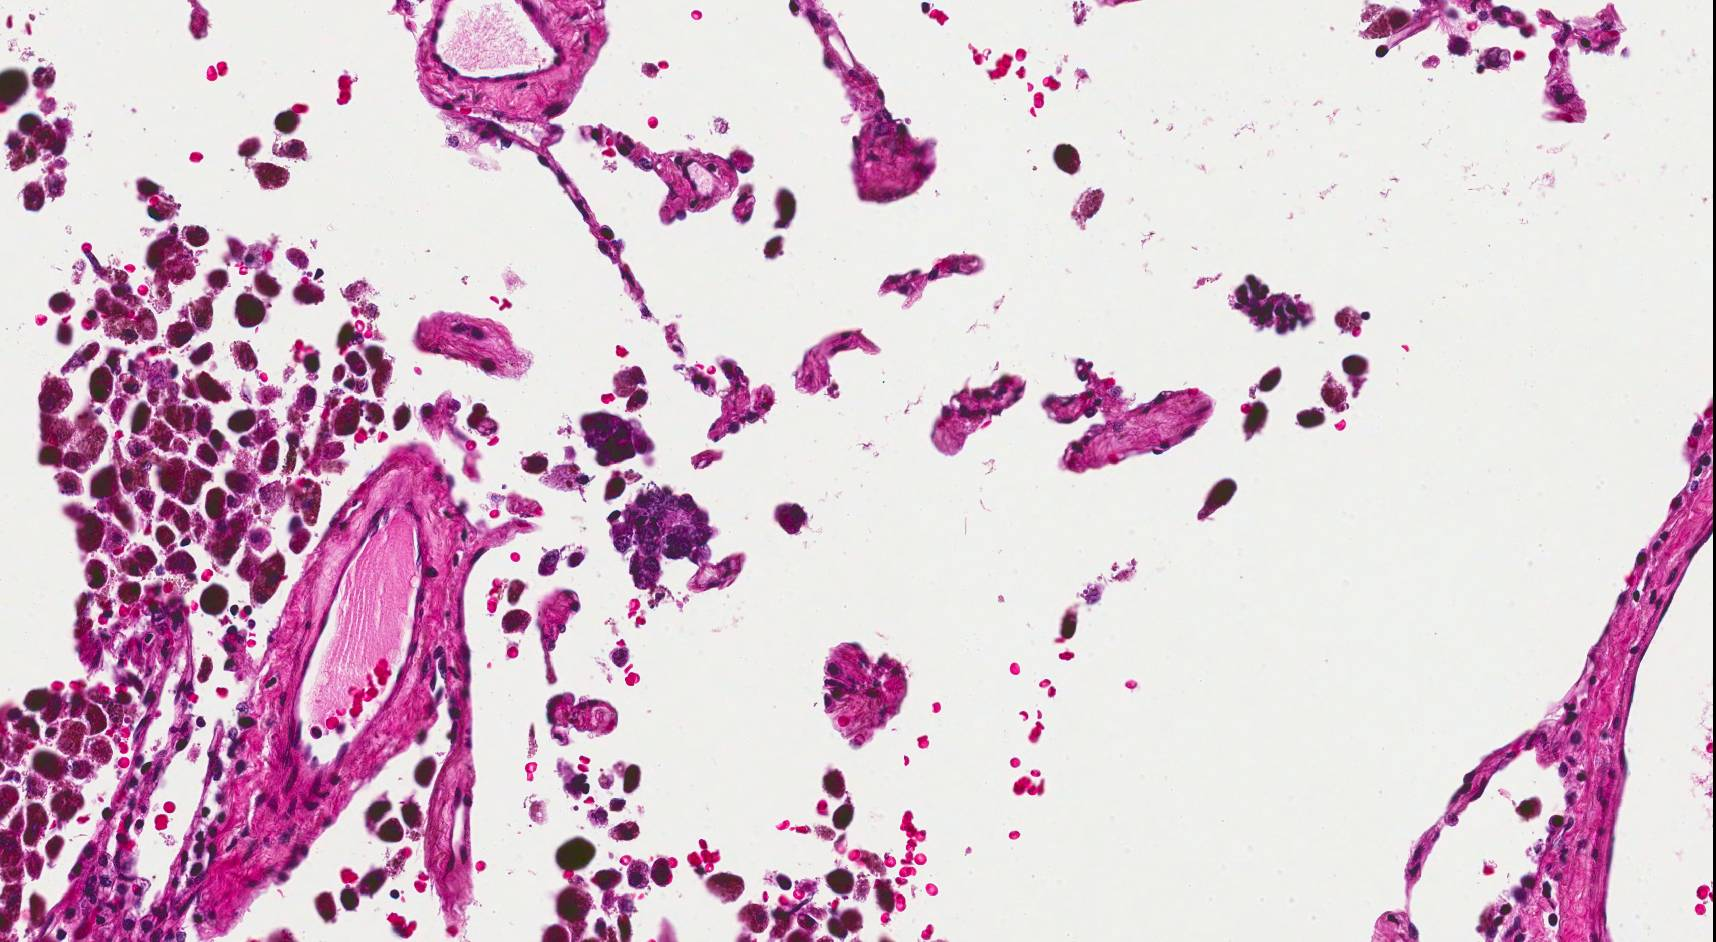stas: (603, 482, 714, 590), (575, 402, 658, 471)
